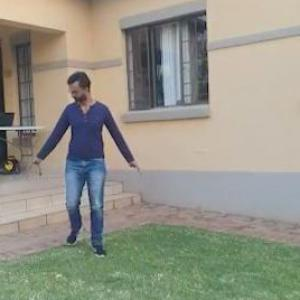land: (23, 56, 152, 269)
